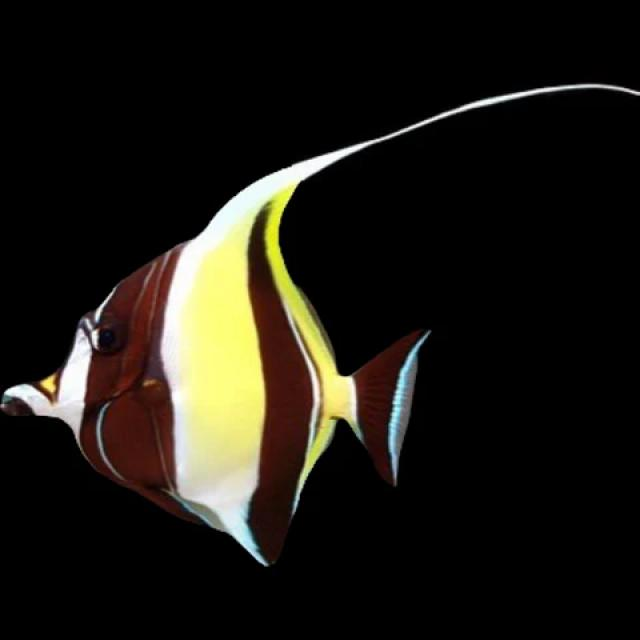MorishIdol: (0, 79, 639, 569)
